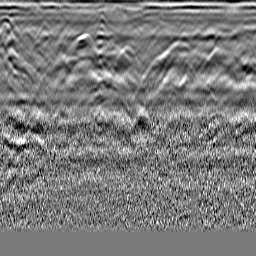cavity: (111, 43, 140, 68)
